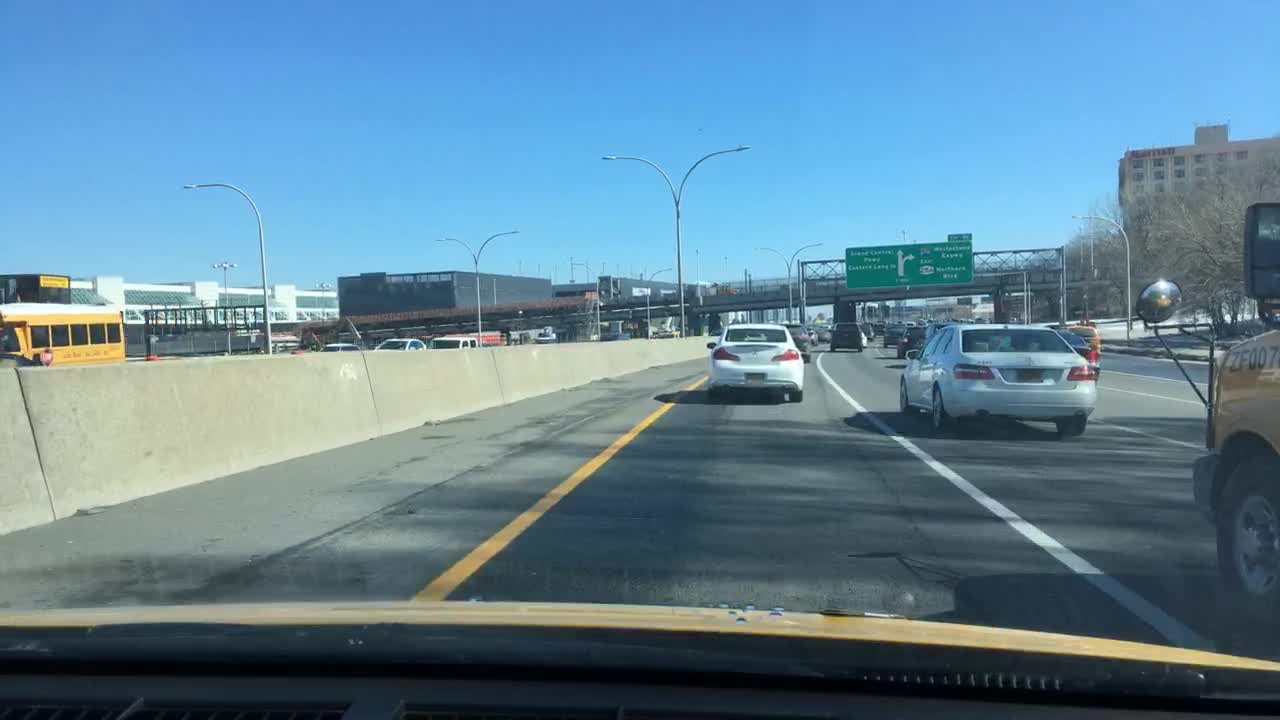bus: (1, 272, 124, 363)
car: (899, 320, 1095, 436), (706, 325, 801, 399), (1054, 325, 1100, 378), (829, 321, 864, 354), (786, 320, 809, 368), (1069, 326, 1101, 355), (371, 336, 424, 351), (897, 325, 920, 353), (429, 335, 477, 346), (920, 320, 945, 341), (880, 326, 900, 348), (650, 326, 681, 337), (316, 341, 358, 349), (533, 331, 558, 344), (860, 323, 872, 344), (808, 324, 818, 345), (819, 324, 832, 339)
traffic sign: (844, 245, 913, 288), (914, 242, 973, 288), (945, 232, 973, 242)
truck: (1126, 197, 1278, 611)
